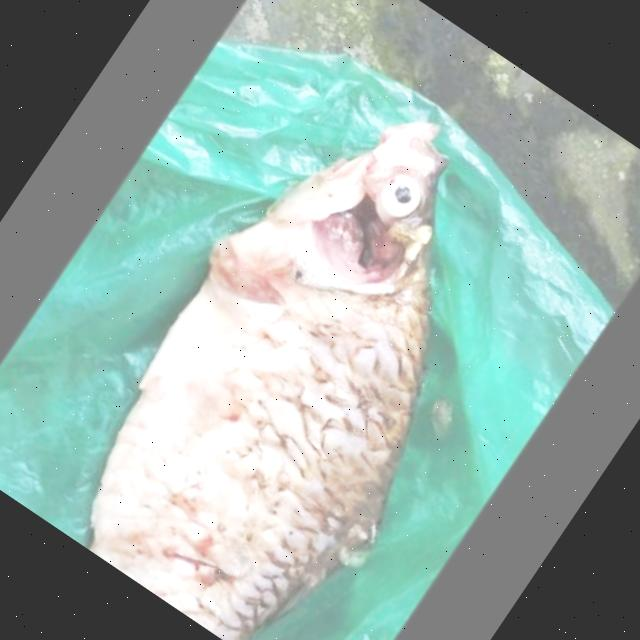Flavobacterium -Bacterial Gill Disease-: (89, 125, 445, 640)
